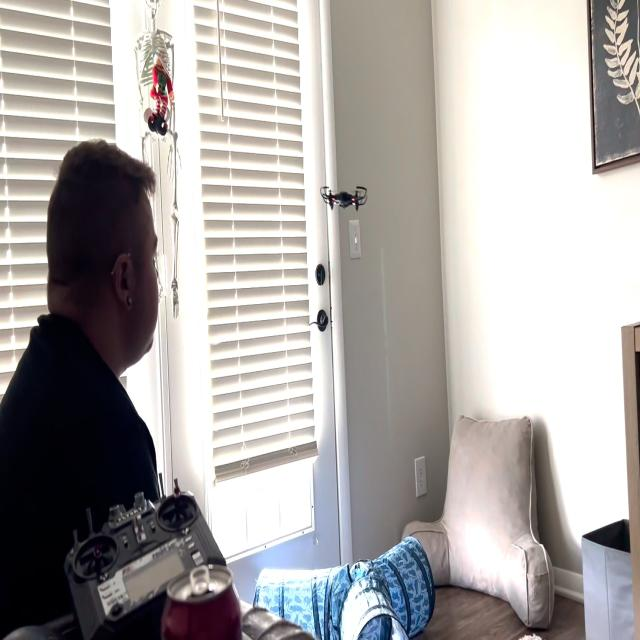drone: (314, 174, 378, 216)
